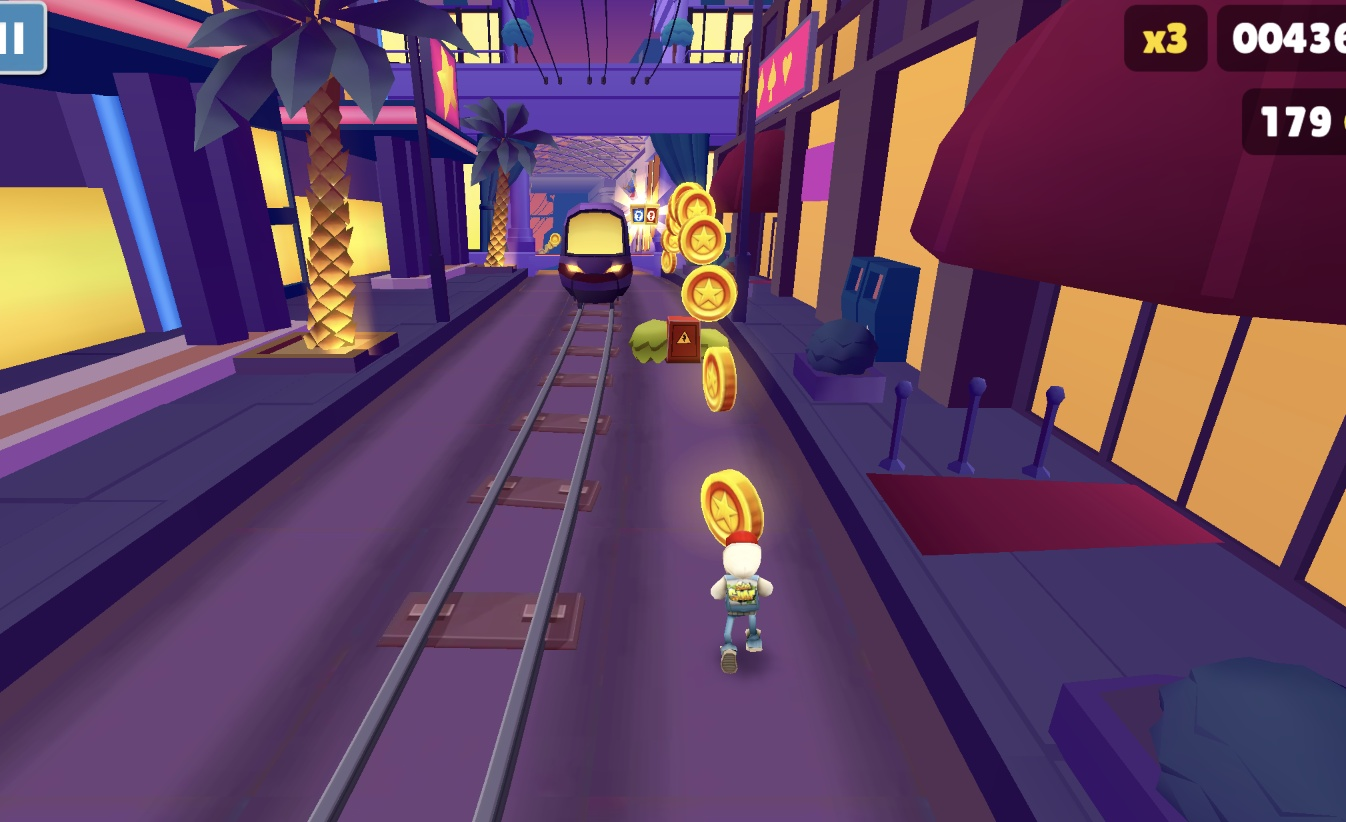bush: (628, 320, 730, 365)
small_obstacle: (667, 317, 702, 365)
train: (556, 197, 636, 307)
